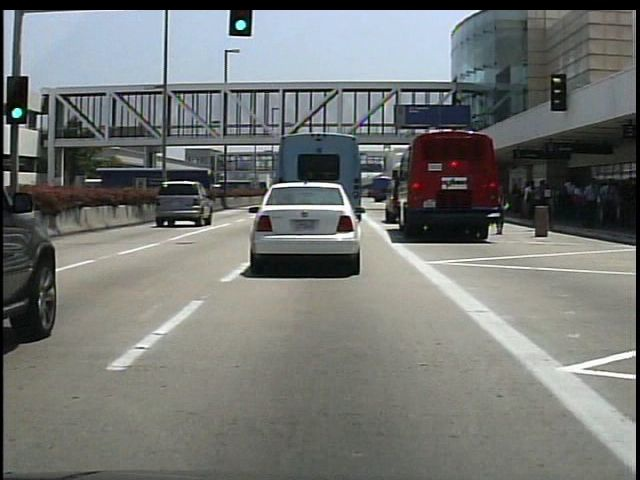person: (493, 186, 507, 237)
